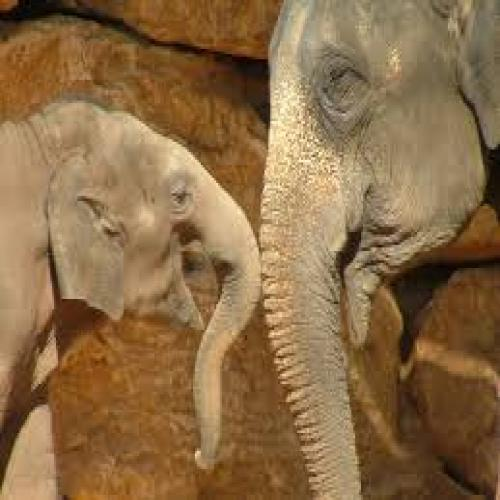asian_elephant-endangered: (256, 0, 500, 500), (0, 97, 265, 500)
